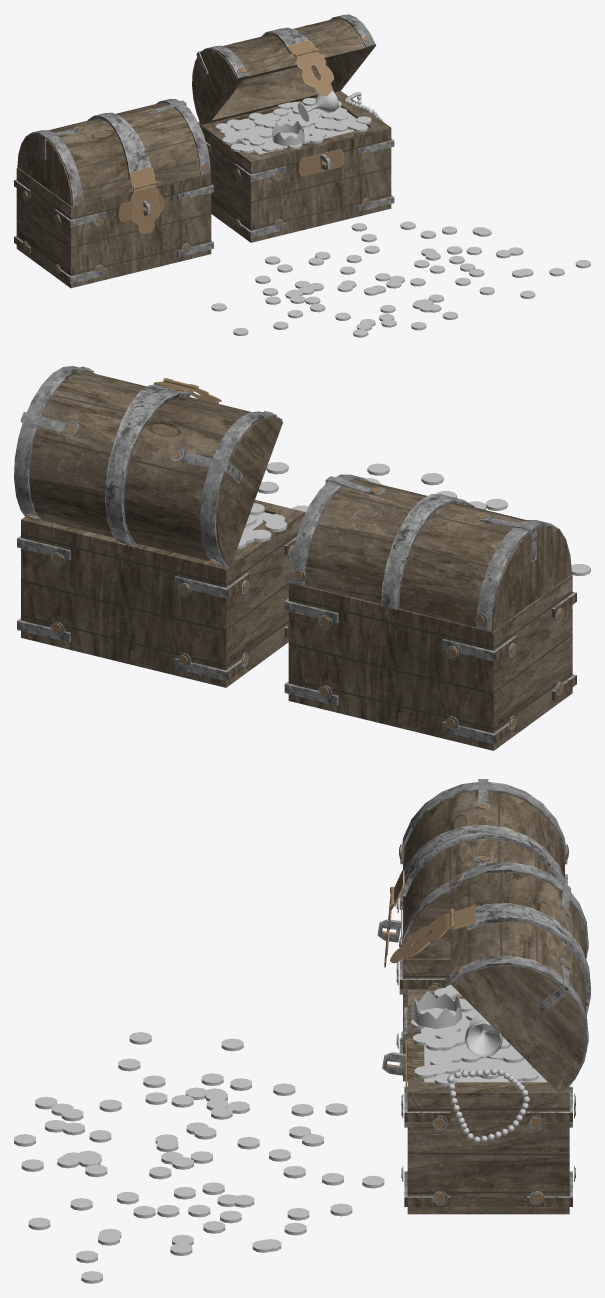
Rendered from uploads-files-2996849-treasure+chest.fbx.
3 views of the same model, one above another, from view 1: azimuth 30°, elevation 25°; view 2: azimuth 150°, elevation 25°; view 3: azimuth 270°, elevation 25° (orthographic). The views are drawn at different scales.
Parts seen in each view (by area): view 1: chest1, halkalar, gold; view 2: halkalar, chest1, gold; view 3: halkalar, gold, chest1.
Part boxes in pixels (x1,y1,x2,y2): chest1: (14, 99, 213, 288); halkalar: (192, 14, 394, 242); gold: (211, 90, 590, 337); halkalar: (14, 366, 305, 687); chest1: (284, 474, 576, 750); gold: (237, 462, 590, 575); halkalar: (382, 862, 590, 1214); gold: (14, 984, 547, 1283); chest1: (377, 779, 568, 1081).
Bounding box in the file's own units: 447 × 173 × 356.
